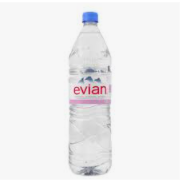Bottle: (69, 12, 111, 176)
